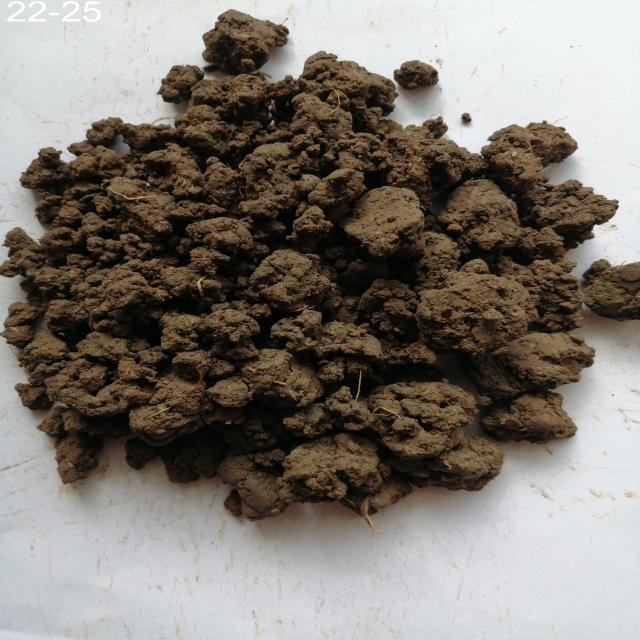soil: (52, 156, 556, 408)
